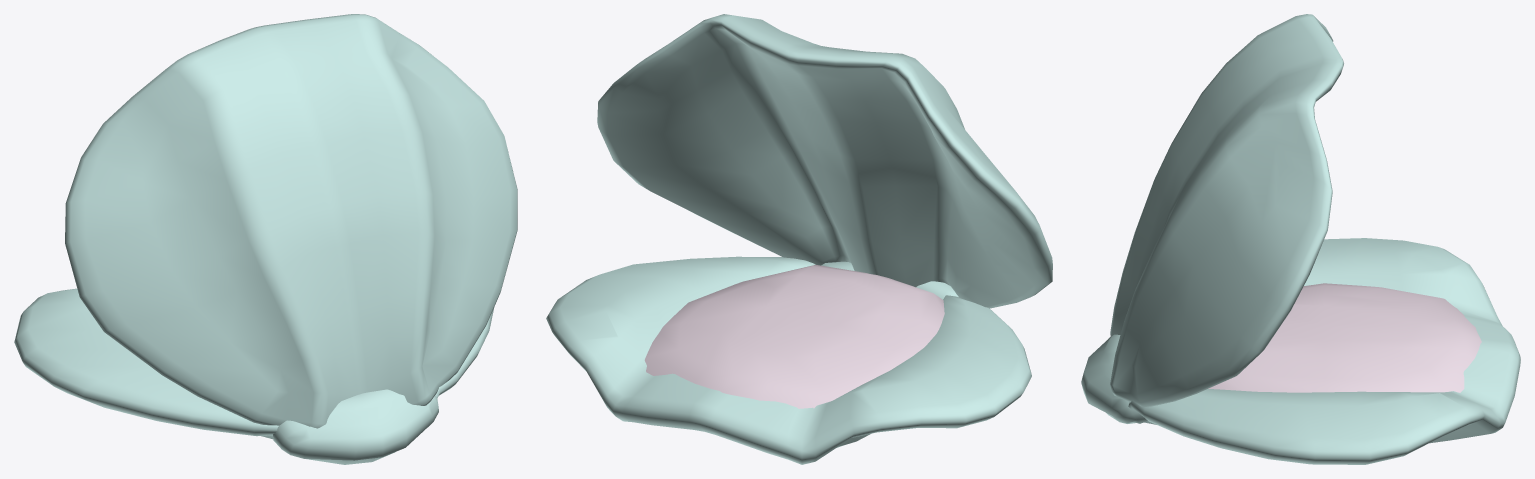
Rendered from SM_BigClam.fbx.
3 views of the same model, side by side, from view 1: azimuth 30°, elevation 25°; view 2: azimuth 150°, elevation 25°; view 3: azimuth 270°, elevation 25° (orthographic).
Visible parts, largest first — view 1: pCube10; view 2: pCube10; view 3: pCube10.
Boxes of the visible parts, x1,y1,x2,y2 form: pCube10: [14, 14, 517, 464]; pCube10: [546, 14, 1052, 464]; pCube10: [1081, 14, 1520, 464].
Size of the model in its own units: 12.99 by 9.92 by 11.29.
